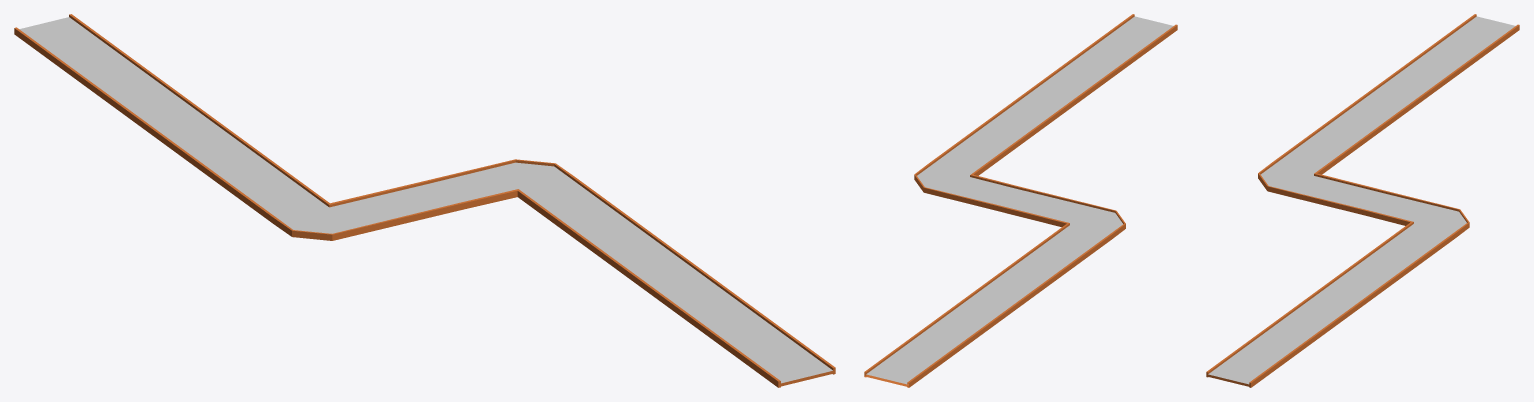
File: gr_conveyor.fbx
3 views of the same model, side by side, from view 1: azimuth 30°, elevation 25°; view 2: azimuth 150°, elevation 25°; view 3: azimuth 330°, elevation 25° (orthographic). The views are drawn at different scales.
Parts seen in each view (by area): view 1: ConveyorBelt; view 2: ConveyorBelt; view 3: ConveyorBelt.
Part boxes in pixels (box(x1,y1,x2,y2)): ConveyorBelt: box(14, 14, 835, 387); ConveyorBelt: box(864, 14, 1177, 387); ConveyorBelt: box(1206, 14, 1519, 387).
Bounding box in the file's own units: 1371 × 31.12 × 4901.
